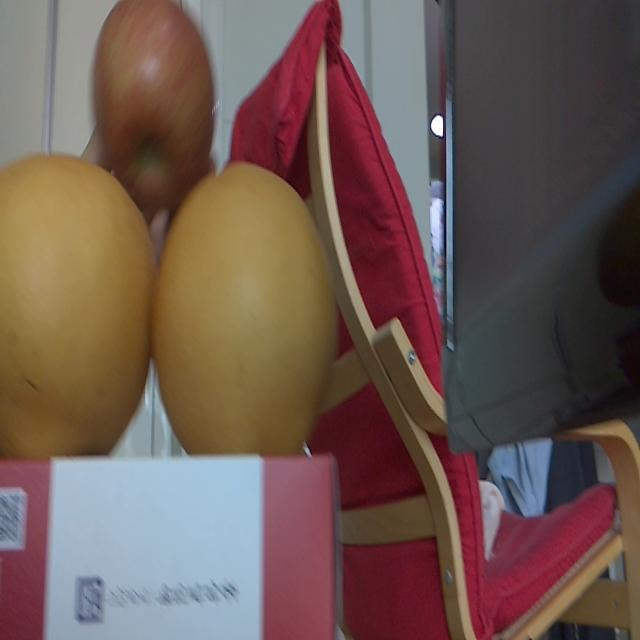apple: (92, 0, 211, 213)
pear: (157, 155, 332, 455), (0, 151, 156, 458)
